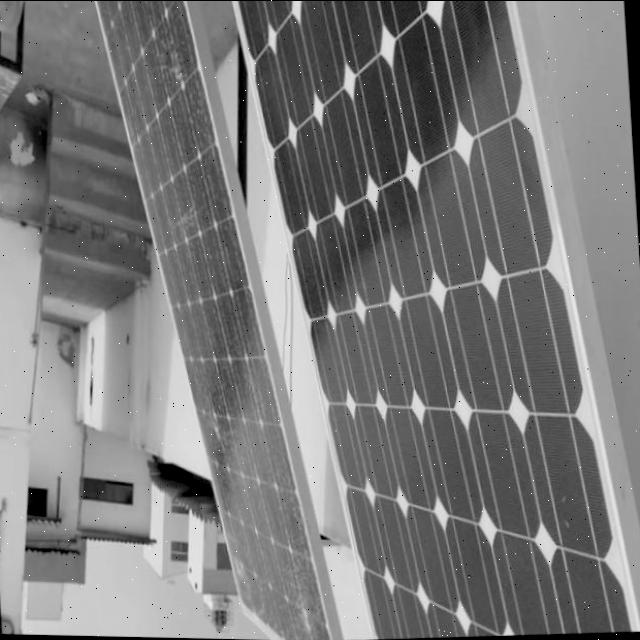Normal Solar Panel: (234, 0, 632, 640)
